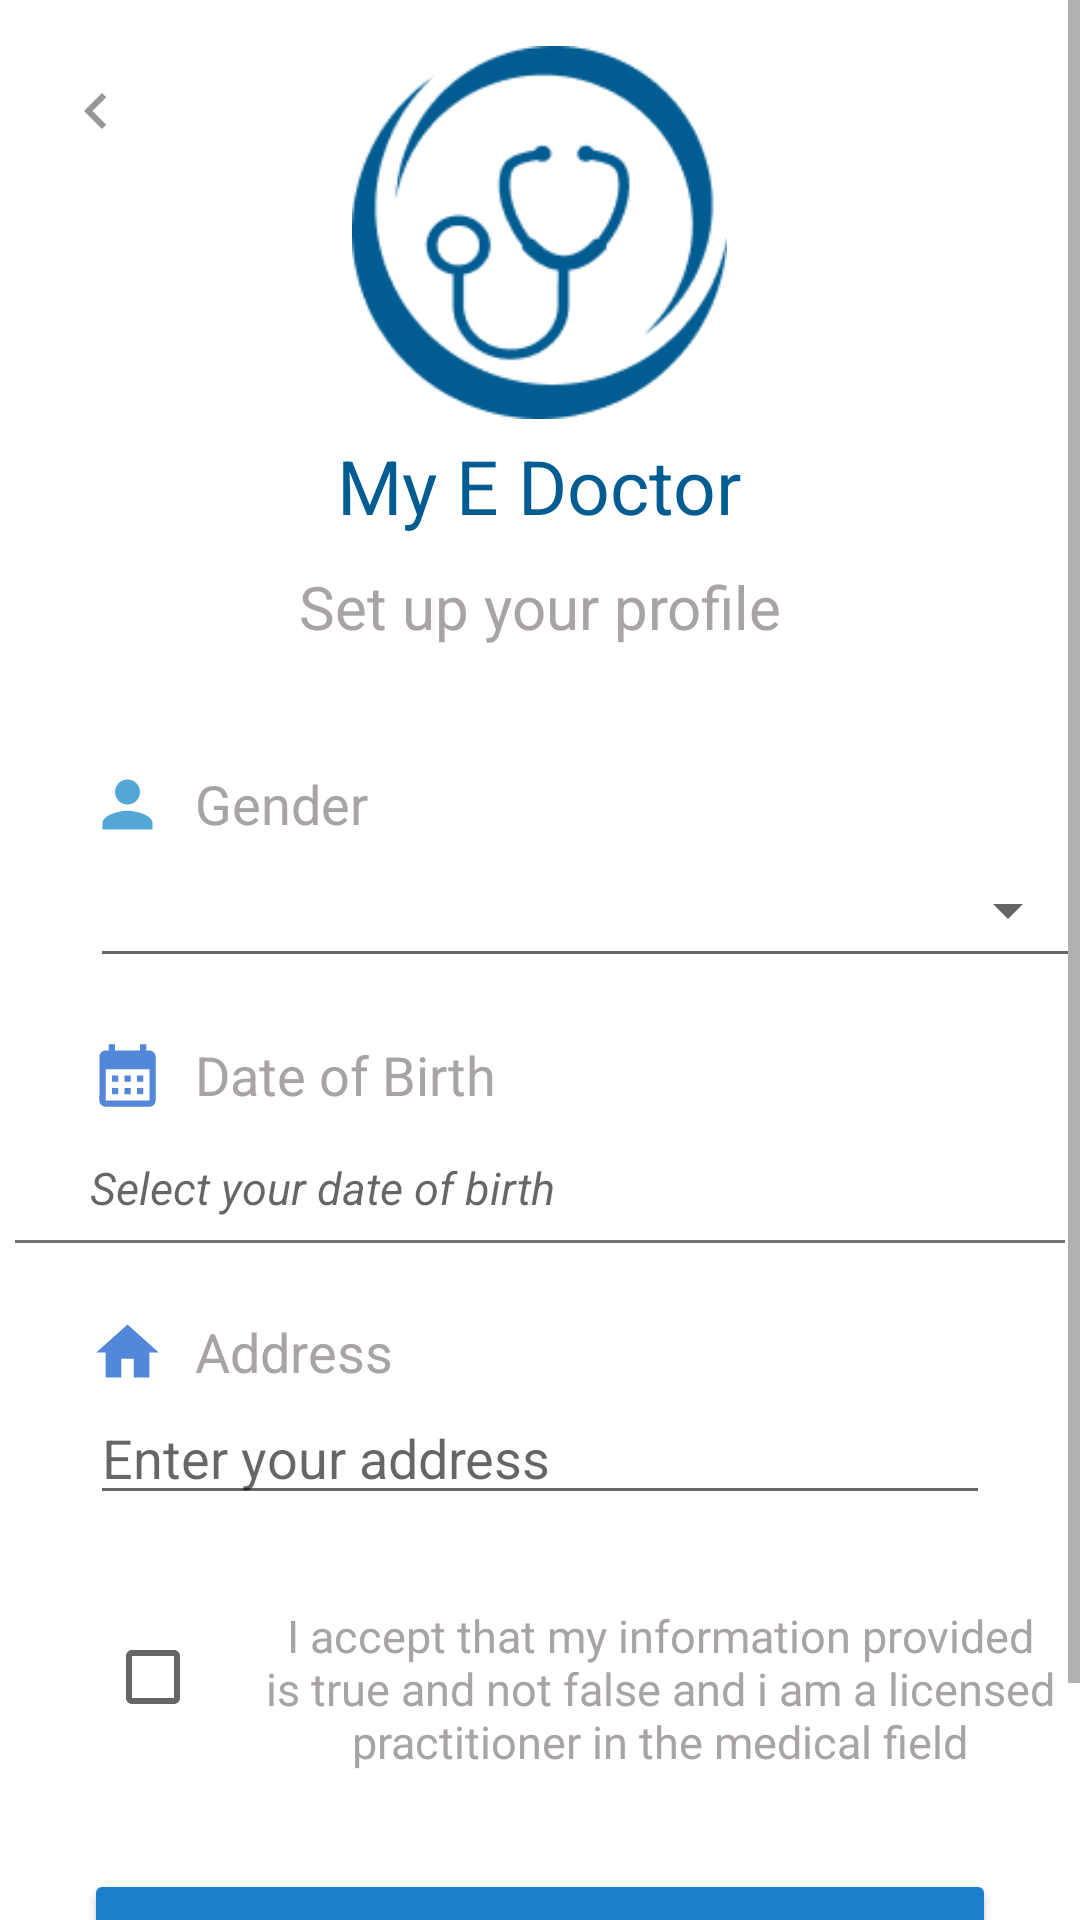

Where icons sit on this 1080 × 1920 app screen, as (x1, y1, x2, y2):
back: (84, 93, 106, 129)
calendar: (99, 1044, 156, 1107)
home: (96, 1324, 159, 1378)
person: (102, 779, 153, 830)
